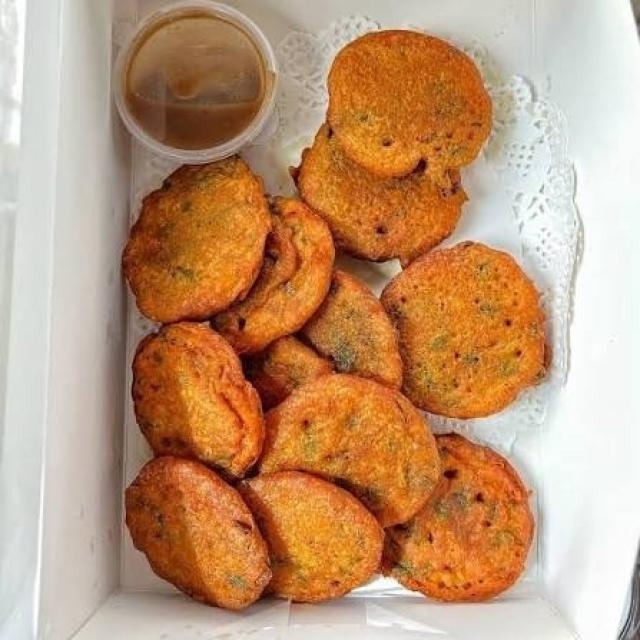Kebab: (129, 34, 519, 608)
